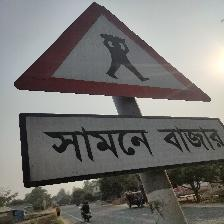Market-in-front: (12, 2, 219, 183)
